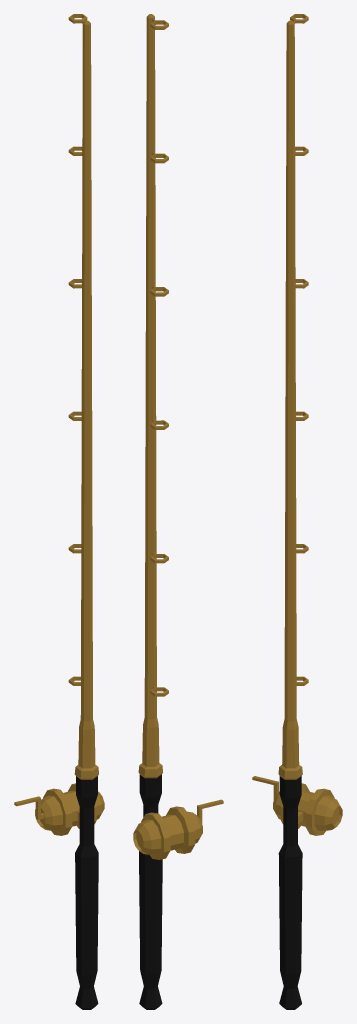
The model's file is fishing_rod_lvl4.glb.
3 renders of one model, left to right at view 1: azimuth 30°, elevation 25°; view 2: azimuth 210°, elevation 25°; view 3: azimuth 330°, elevation 25°, orthographic.
Parts seen in each view (by area): view 1: FishingRod_Lvl4; view 2: FishingRod_Lvl4; view 3: FishingRod_Lvl4.
Part boxes in pixels (bbox=[...]): FishingRod_Lvl4: bbox=[14, 14, 104, 1009]; FishingRod_Lvl4: bbox=[133, 14, 223, 1009]; FishingRod_Lvl4: bbox=[252, 14, 342, 1009].
Bounding box in the file's own units: 0.1646 × 1.85 × 0.1178.
